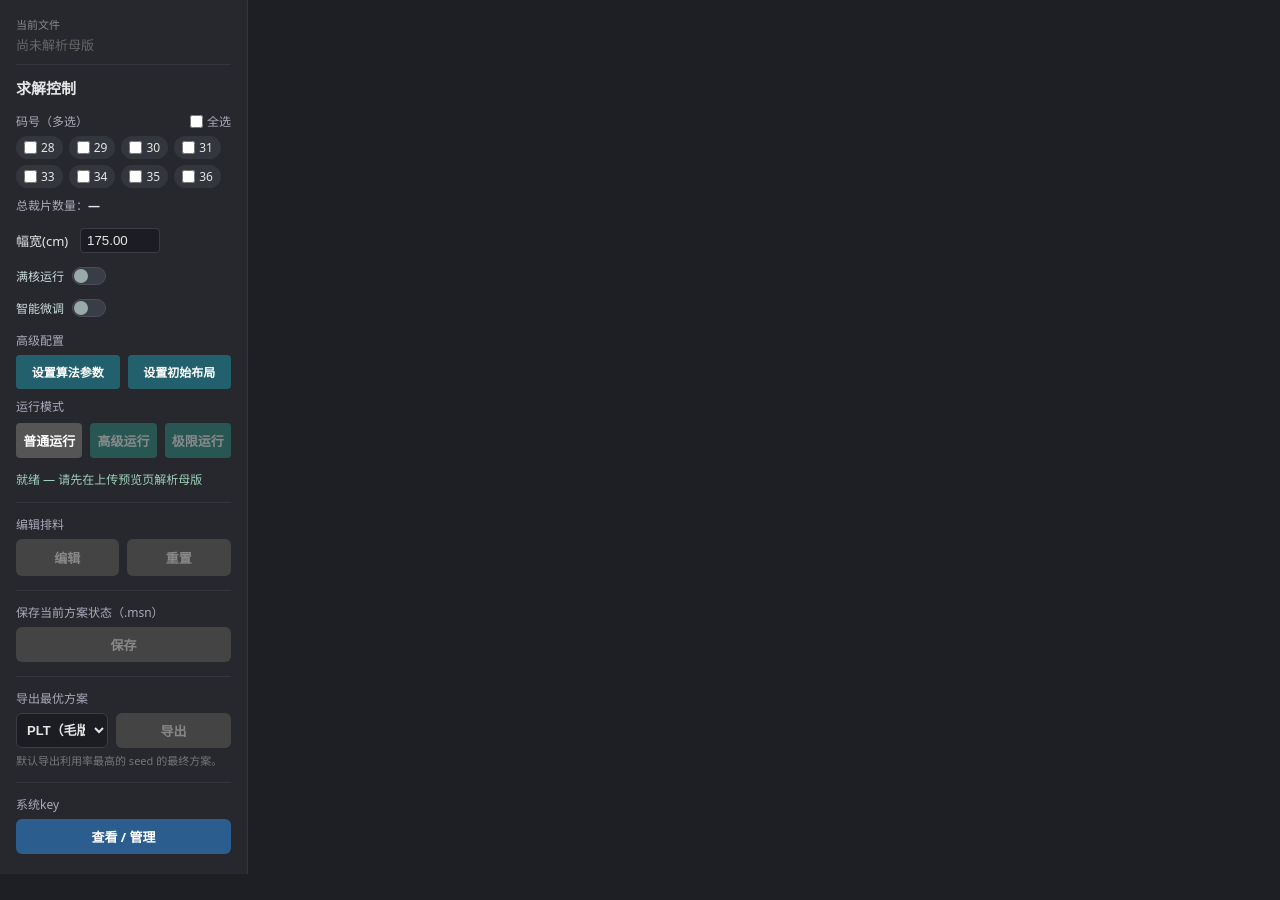
Test: US-027 NestingPage phase 转换 › 3b) running->(error)->error：状态行含「错误」+ #restart 切「重新开始」
The width and height of the screenshot is (1280, 900).
Click the checkbox labelled "28".
click(30, 148)  # box [24,141,37,154]
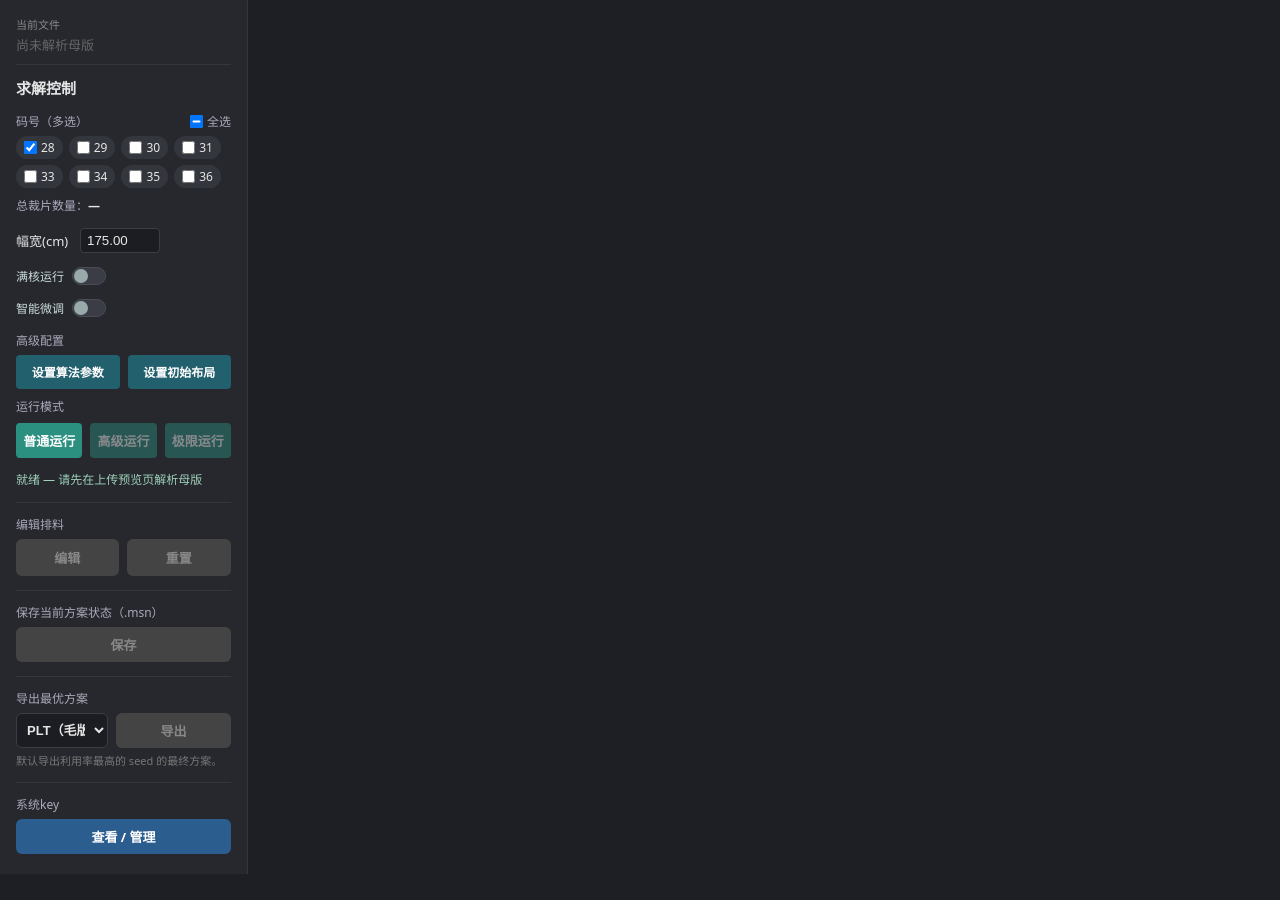
Click the button with id "start".
click(49, 440)  # box [16,423,82,458]
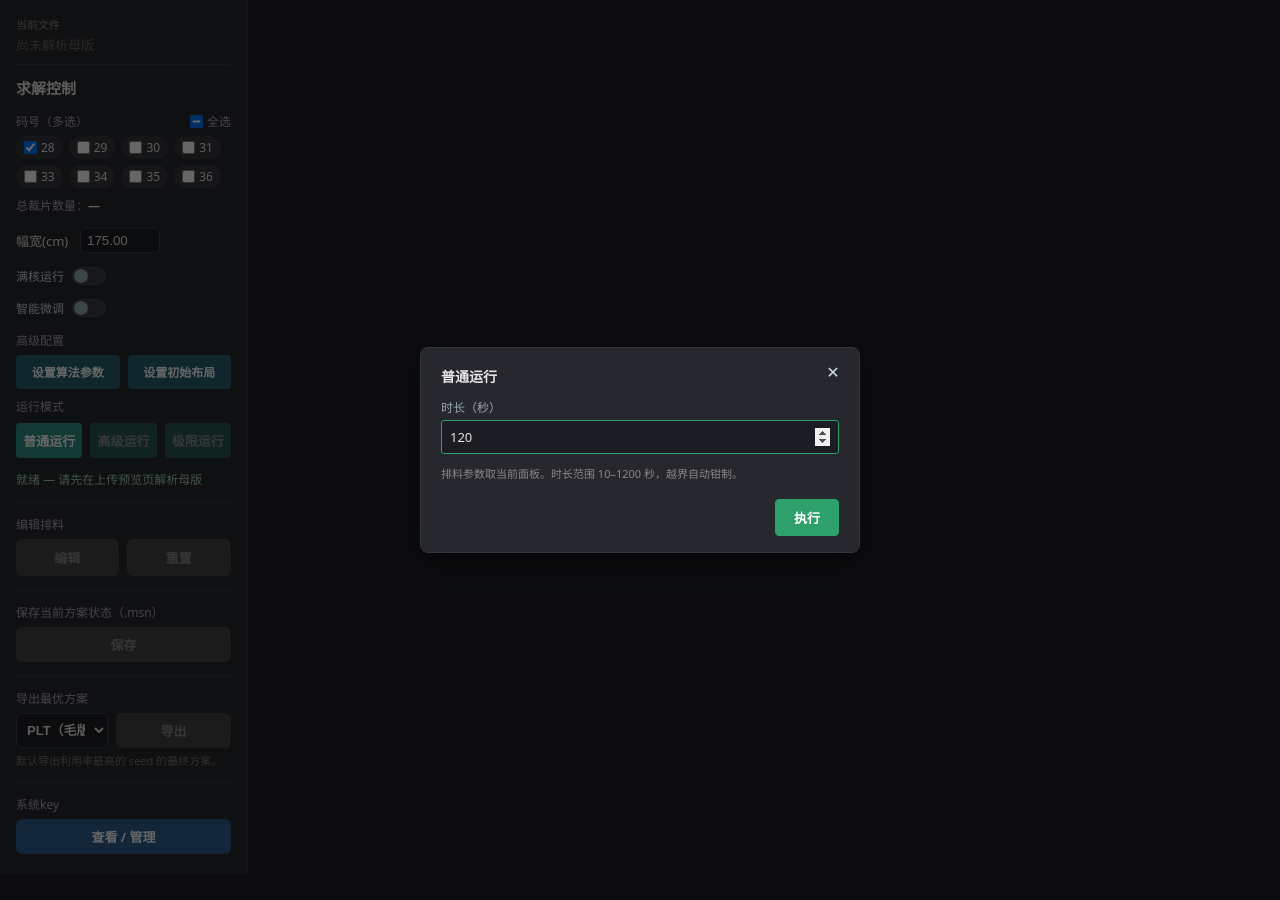
Click the button with test id "normal-run-confirm".
click(807, 517)  # box [775,499,839,536]
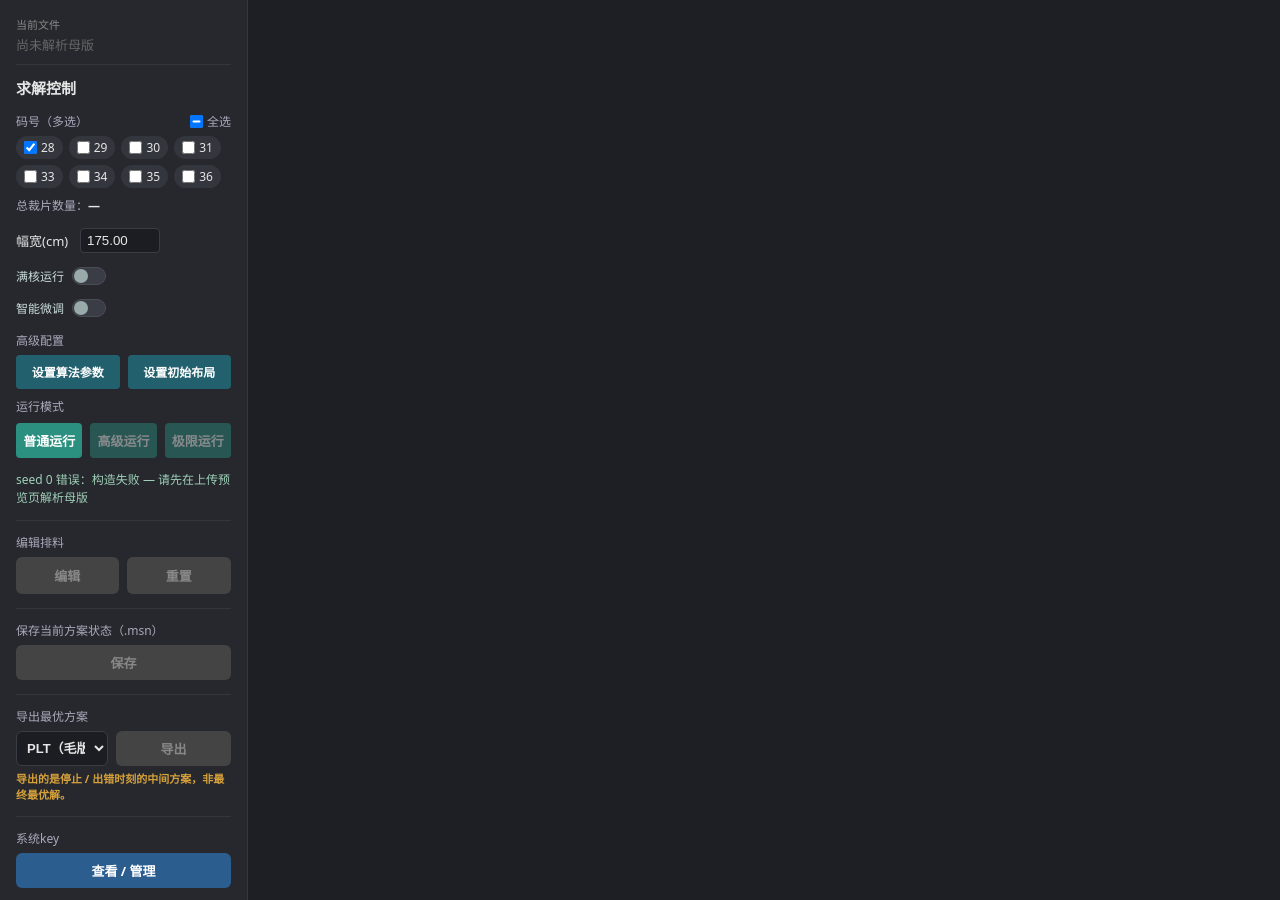
Expected: the button with id "start" reads "普通运行", [16,423,82,458]
Expected: the text with id "status" shows "错误", [16,471,230,506]
Expected: the text with id "status" shows "构造失败", [16,471,230,506]
